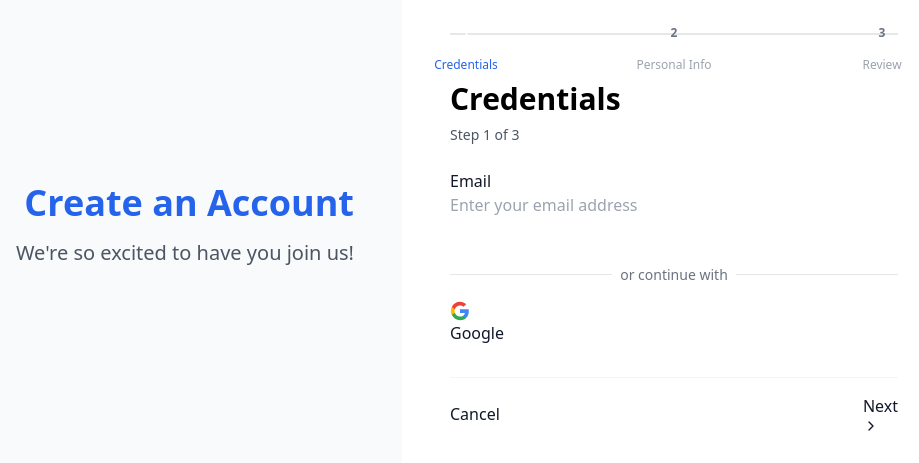
Test: Register Component › validates required fields
Note: Click next without filling anything
Click the button "Next": (880, 414) [863,394,898,434]
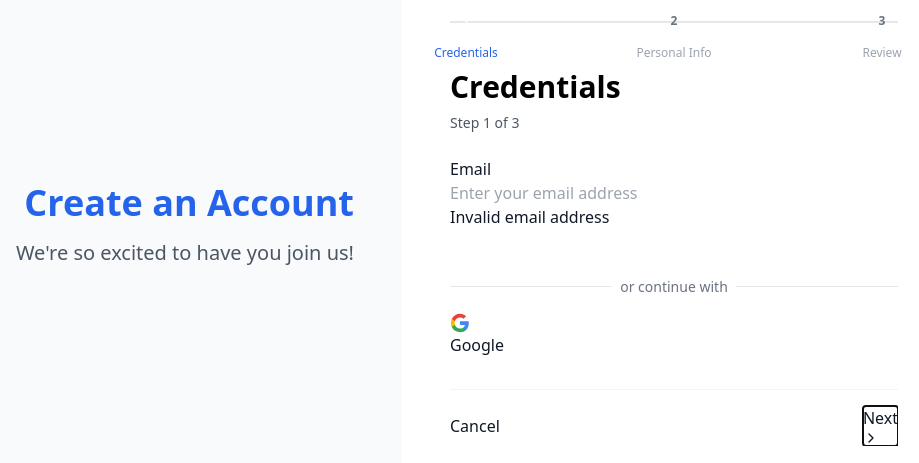
Expected: the text "Invalid email address" is shown, [450,206,609,228]
